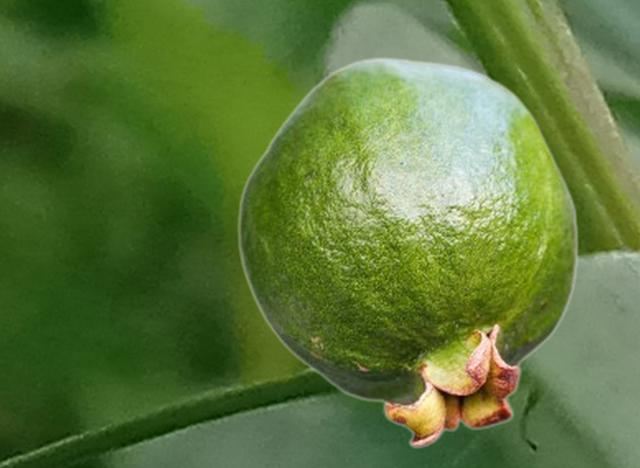guava: (236, 57, 578, 448)
